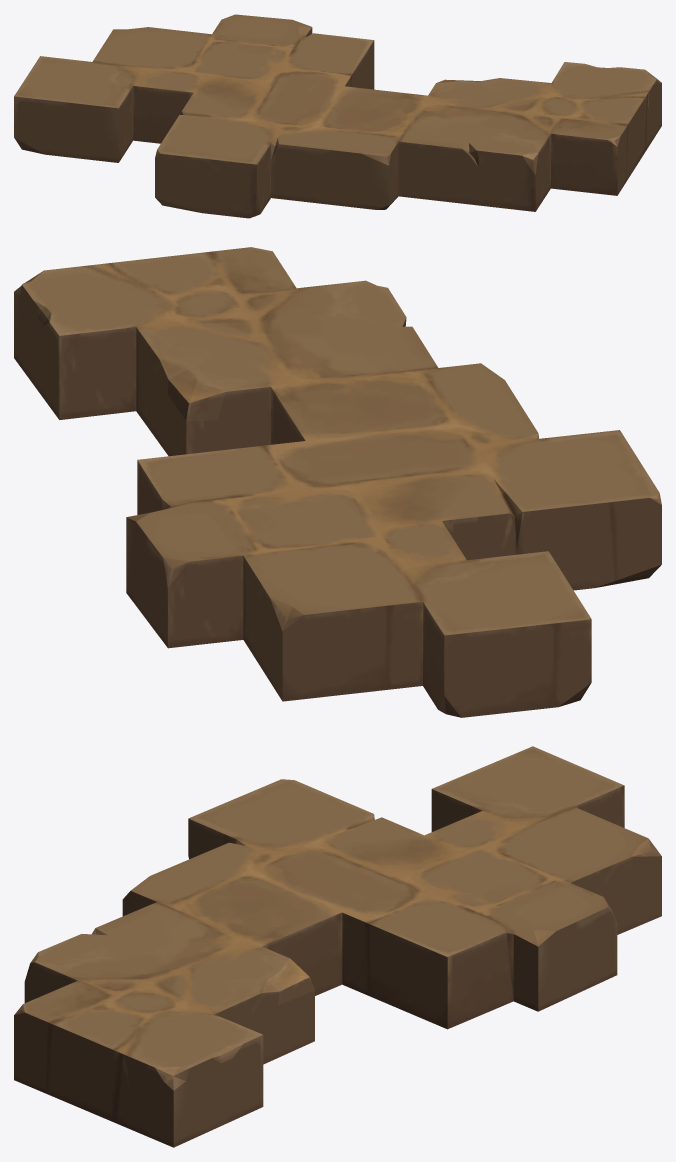
Rendered from yw_shamo_zhuanlu_002.FBX.
3 views of the same model, one above another, from view 1: azimuth 30°, elevation 25°; view 2: azimuth 150°, elevation 25°; view 3: azimuth 270°, elevation 25° (orthographic). The views are drawn at different scales.
Parts seen in each view (by area): view 1: yw_shamo_zhuanlu_002; view 2: yw_shamo_zhuanlu_002; view 3: yw_shamo_zhuanlu_002.
Part boxes in pixels (box(x1,y1,x2,y2)): yw_shamo_zhuanlu_002: box(14, 14, 661, 218); yw_shamo_zhuanlu_002: box(14, 247, 661, 717); yw_shamo_zhuanlu_002: box(14, 746, 661, 1147).
Bounding box in the file's own units: 10634 × 8843 × 1087.
